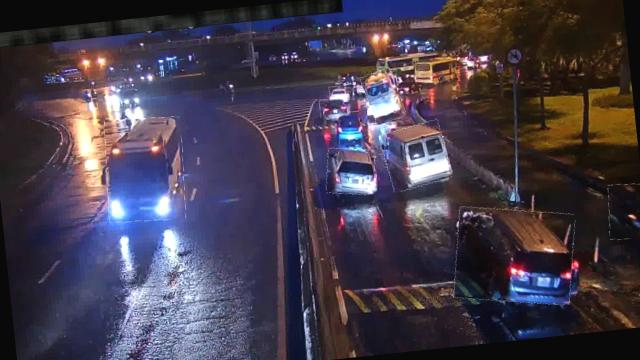Bike: (605, 182, 640, 240)
Bus: (100, 114, 190, 226), (380, 121, 452, 192), (362, 68, 404, 124)
Car: (448, 200, 580, 312), (324, 146, 379, 197), (338, 111, 363, 140), (320, 98, 350, 118), (329, 85, 347, 102)
